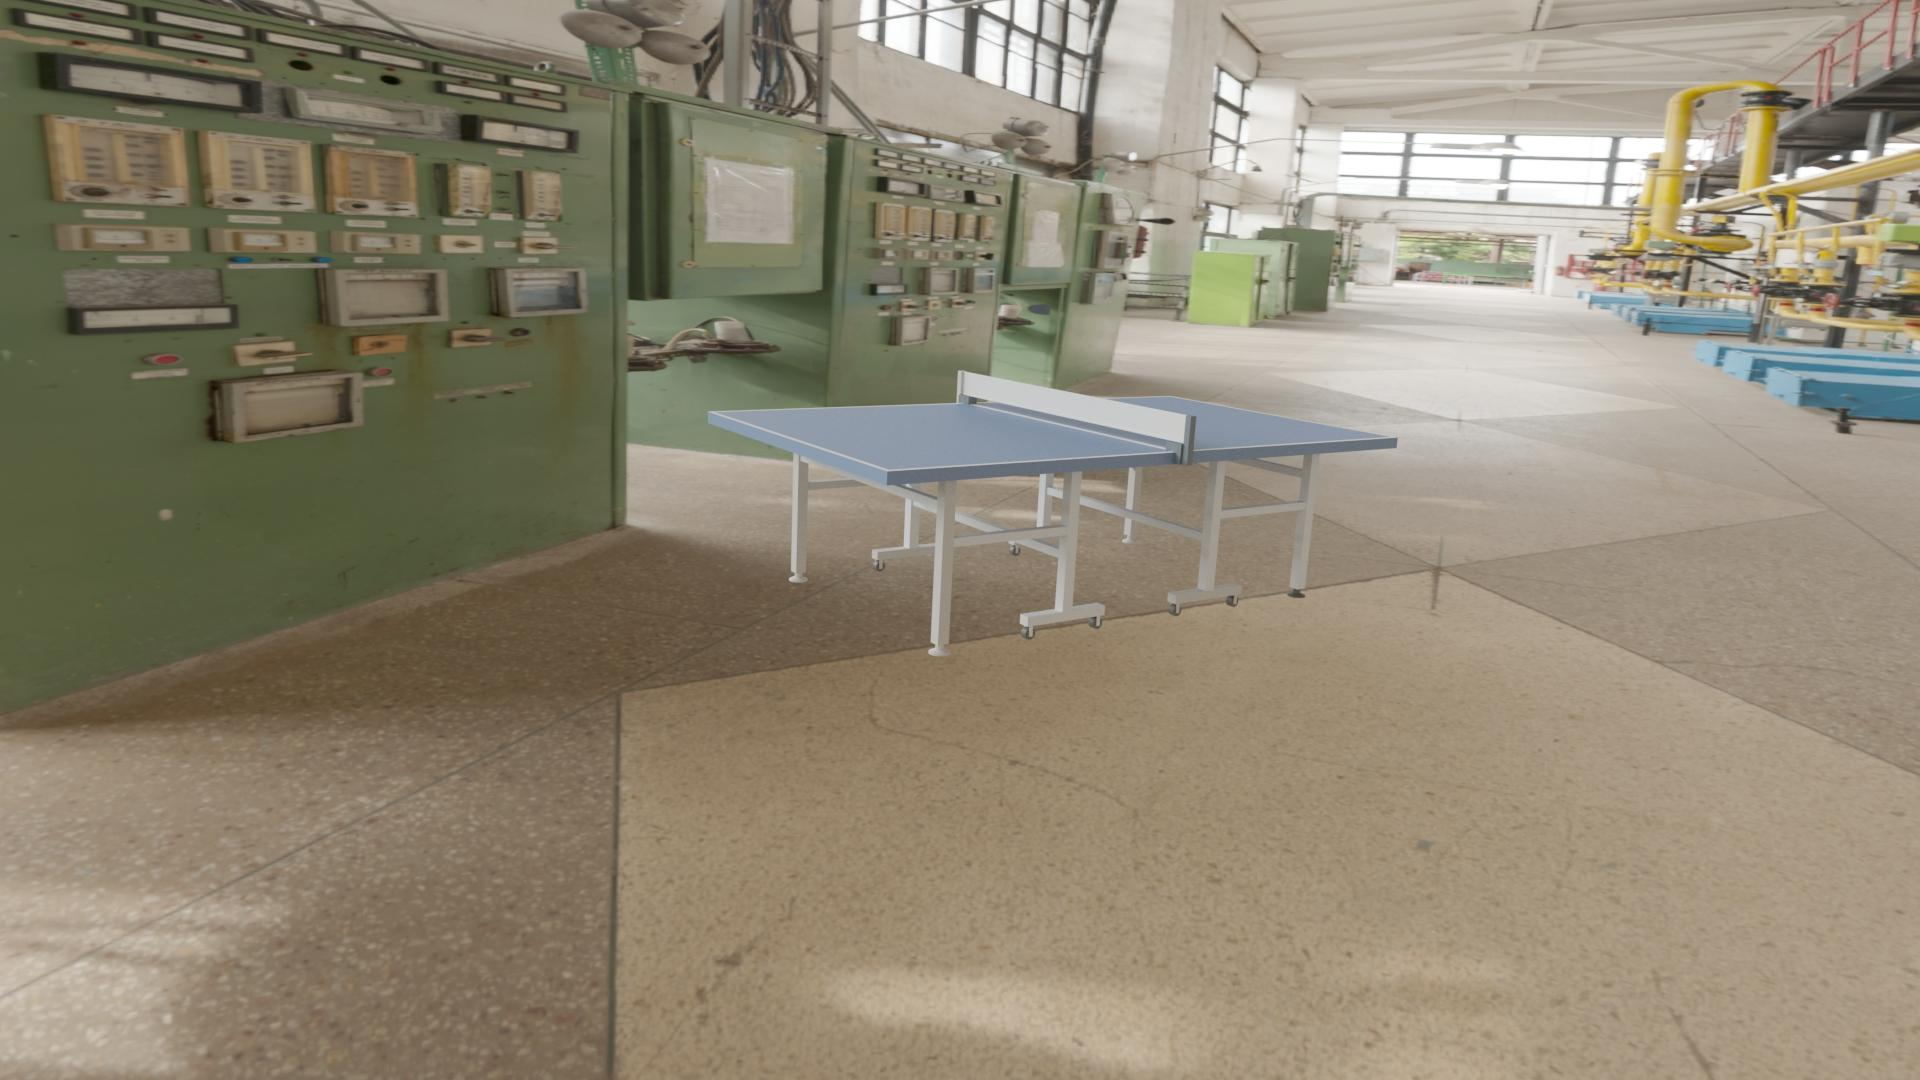table: (715, 397, 1391, 469)
